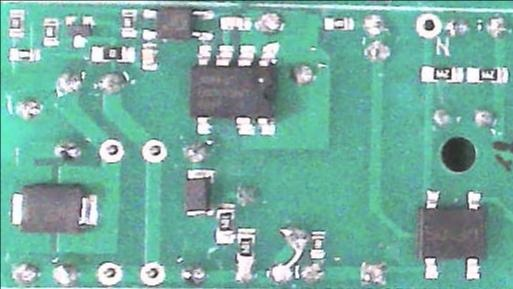chip-capacitor: (218, 14, 252, 33), (141, 43, 160, 73)
chip-resistor: (465, 64, 509, 85), (419, 63, 463, 84), (215, 203, 236, 244), (91, 45, 136, 64), (237, 227, 257, 265), (6, 7, 27, 40), (320, 14, 355, 31), (6, 46, 41, 63), (120, 8, 139, 39), (41, 17, 60, 48), (309, 230, 326, 260)
diode: (9, 183, 100, 236), (183, 166, 216, 219)
ic: (190, 42, 281, 138), (417, 186, 488, 283), (139, 5, 215, 43)
transistor: (62, 11, 94, 49)
